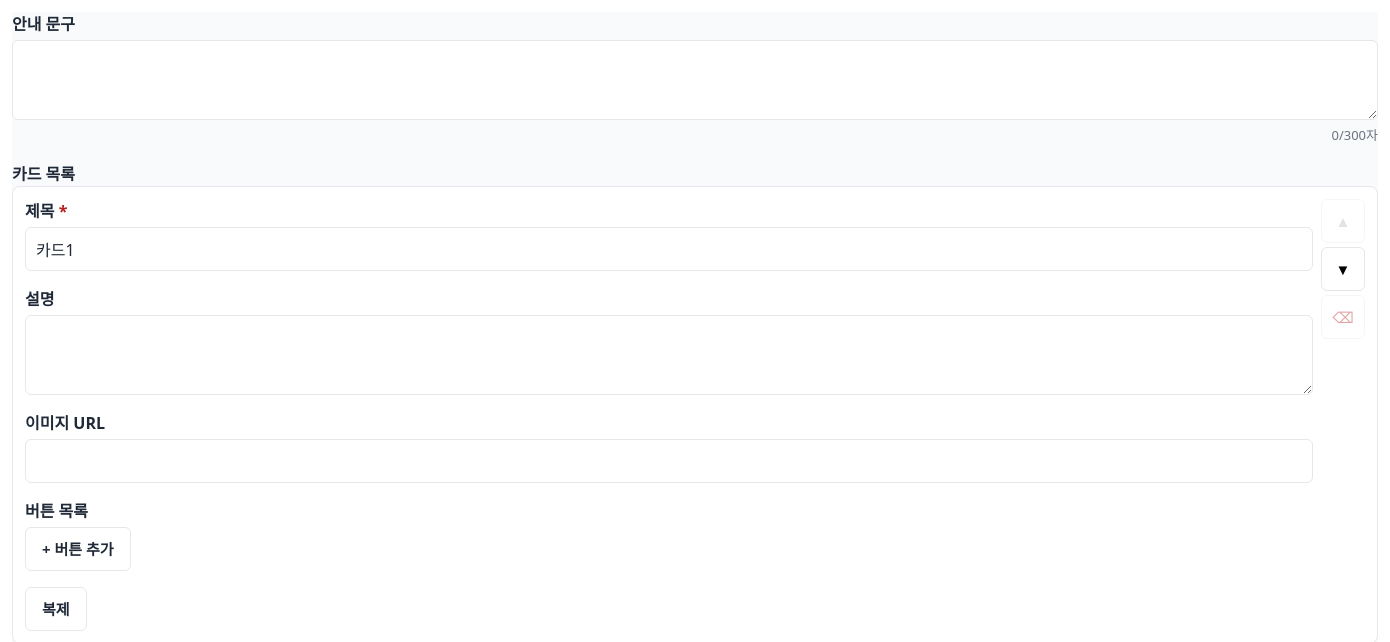
Test: CarouselOutputEditor — 이미지 URL 인라인 검증(§3.1) › 정상 https 주소는 오류가 없고, 이미지가 있으면 대체 텍스트 필수 오류가 뜬다
In the field labelled "이미지 URL": coordinates (669, 460) [25, 438, 1313, 482], type "https://img.example.com/a.png"
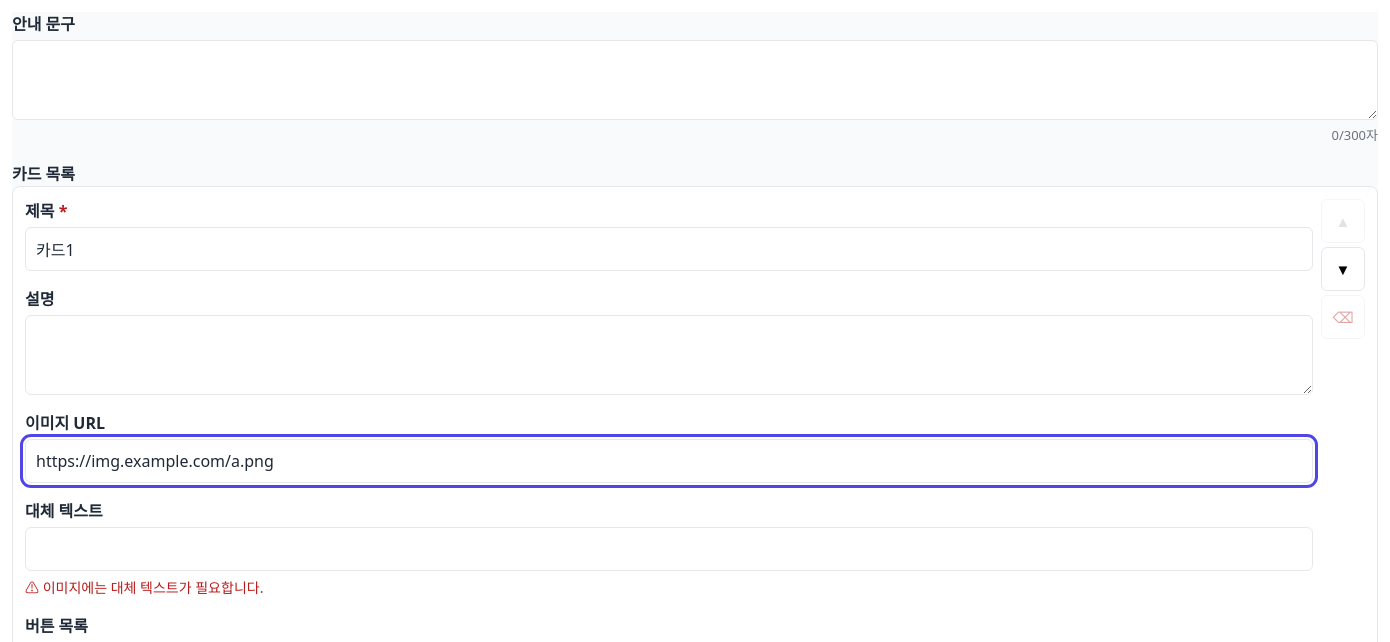
Expected: the text "이미지에는 대체 텍스트가 필요합니다." is shown, [43, 578, 263, 596]
